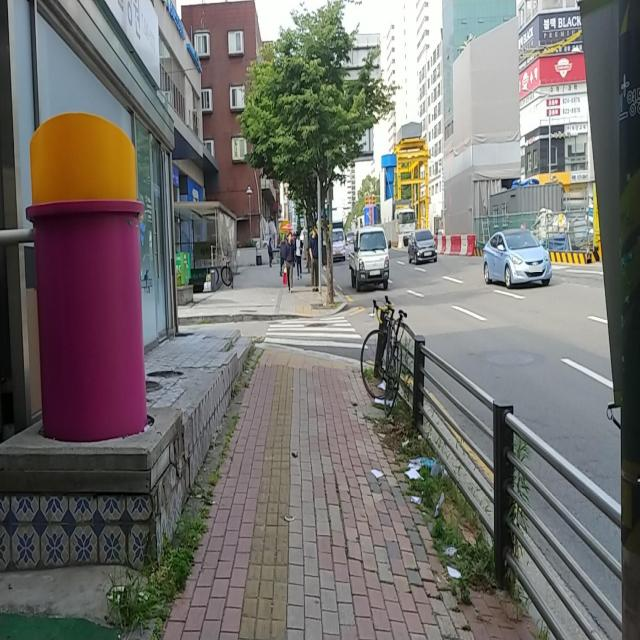횡단보도: (264, 316, 369, 350)
